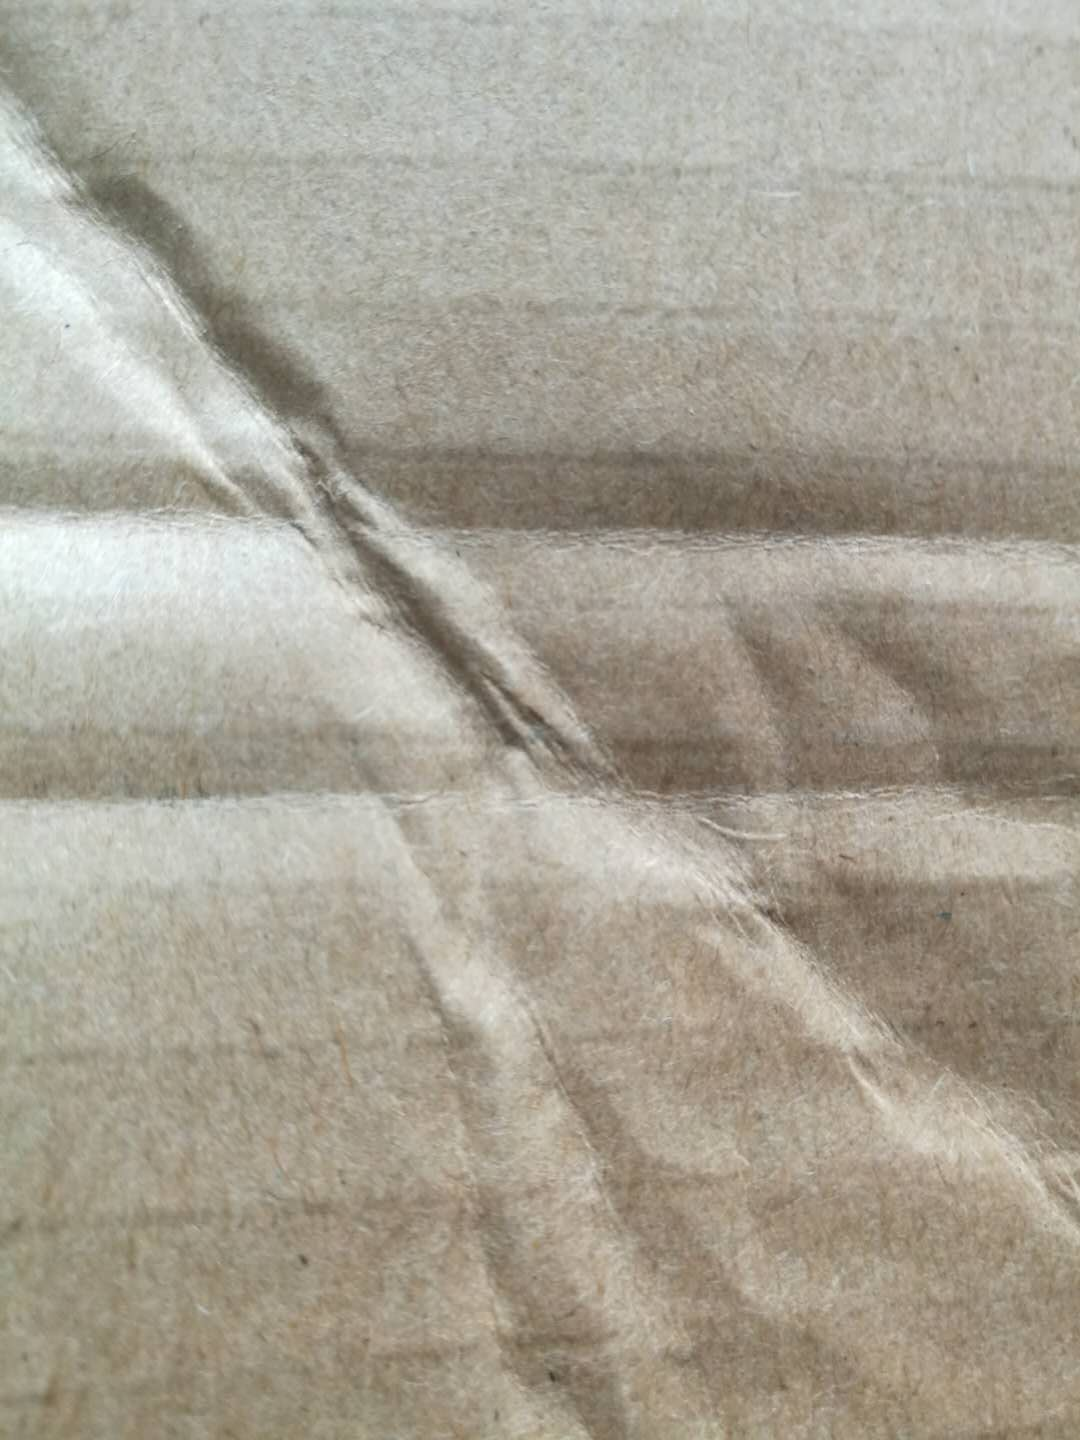defect: (1, 10, 1078, 1439)
